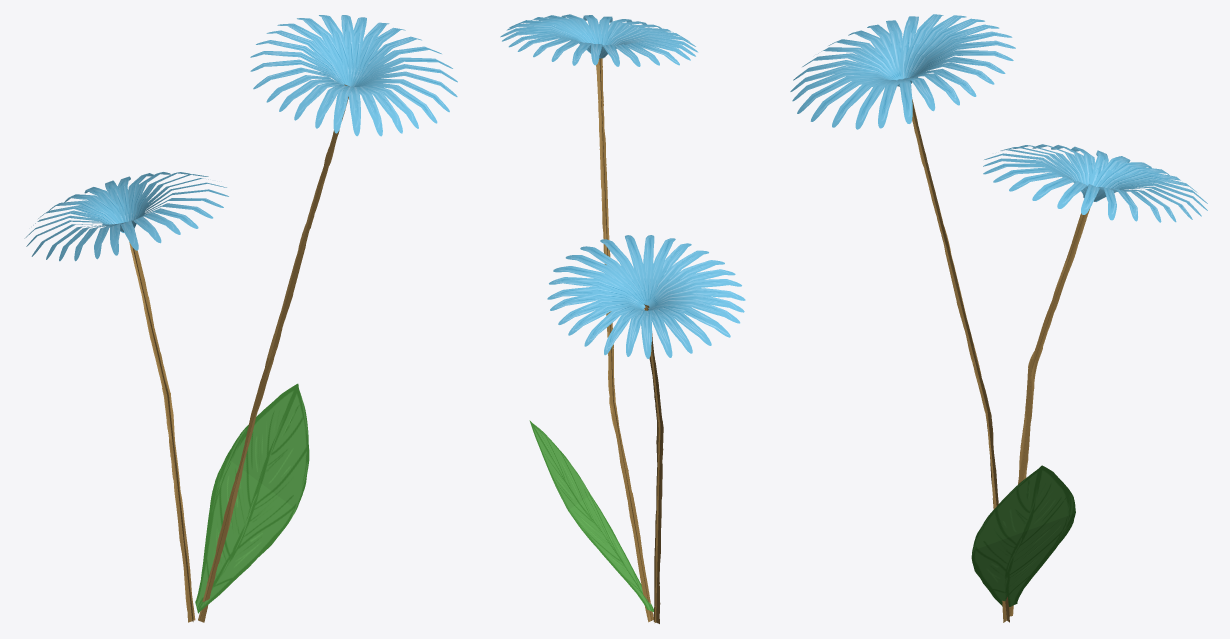
The model's file is Daisy_02.fbx.
The picture shows the model from 3 angles, left to right: view 1: azimuth 30°, elevation 25°; view 2: azimuth 150°, elevation 25°; view 3: azimuth 270°, elevation 25°; orthographic projection. The views are drawn at different scales.
Parts seen in each view (by area): view 1: Daisy_02; view 2: Daisy_02; view 3: Daisy_02.
Part boxes in pixels (x1,y1,x2,y2): Daisy_02: (24,15,457,622); Daisy_02: (500,14,745,623); Daisy_02: (790,14,1207,622).
Size of the model in its own units: 1.81 by 3.01 by 1.87.
